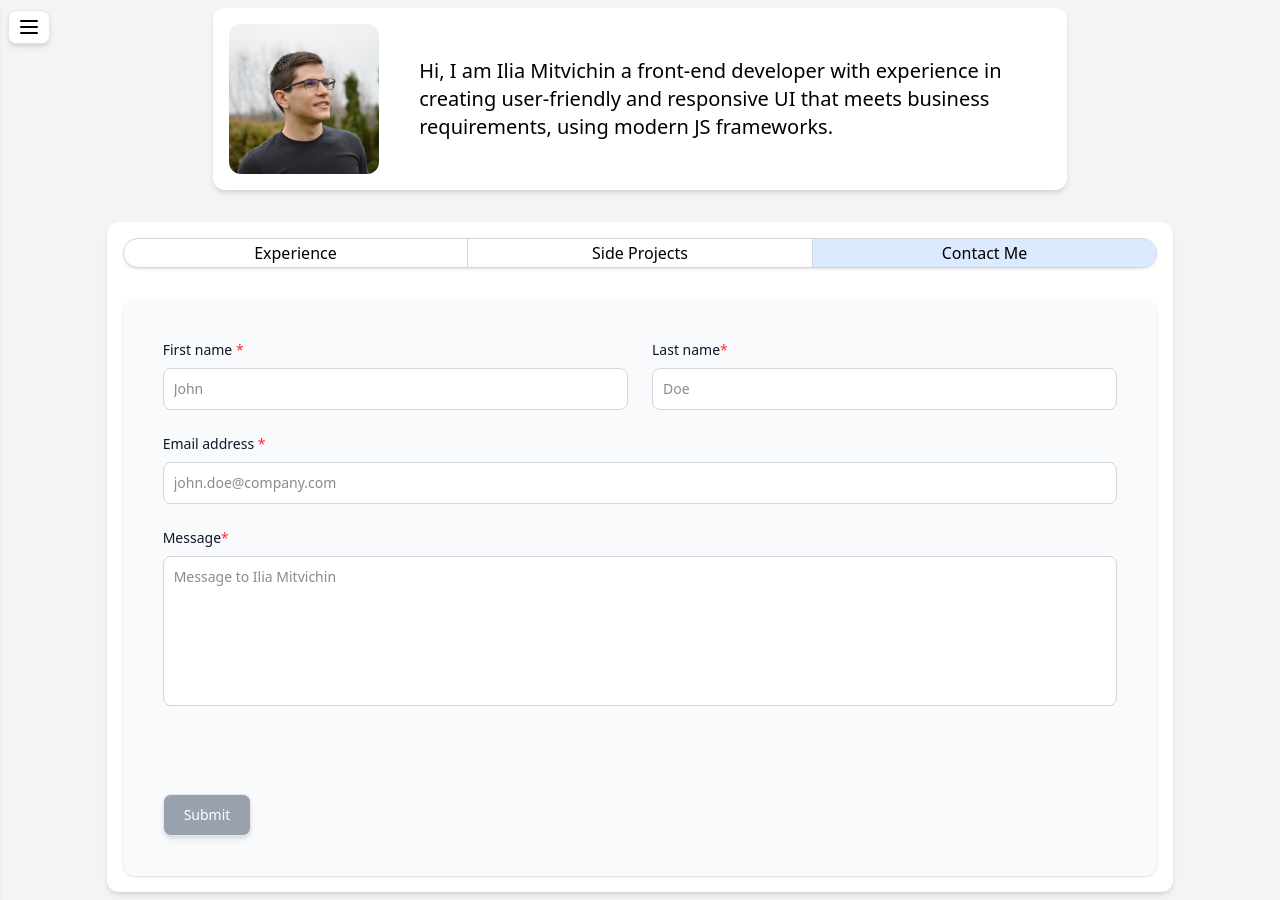
Test: Contact me › should show validation messages
Expected: the text "Contact Me" is shown, [942, 241, 1027, 265]
In the field with placeholder "John": [395, 389] box [163, 368, 628, 410], type "T"
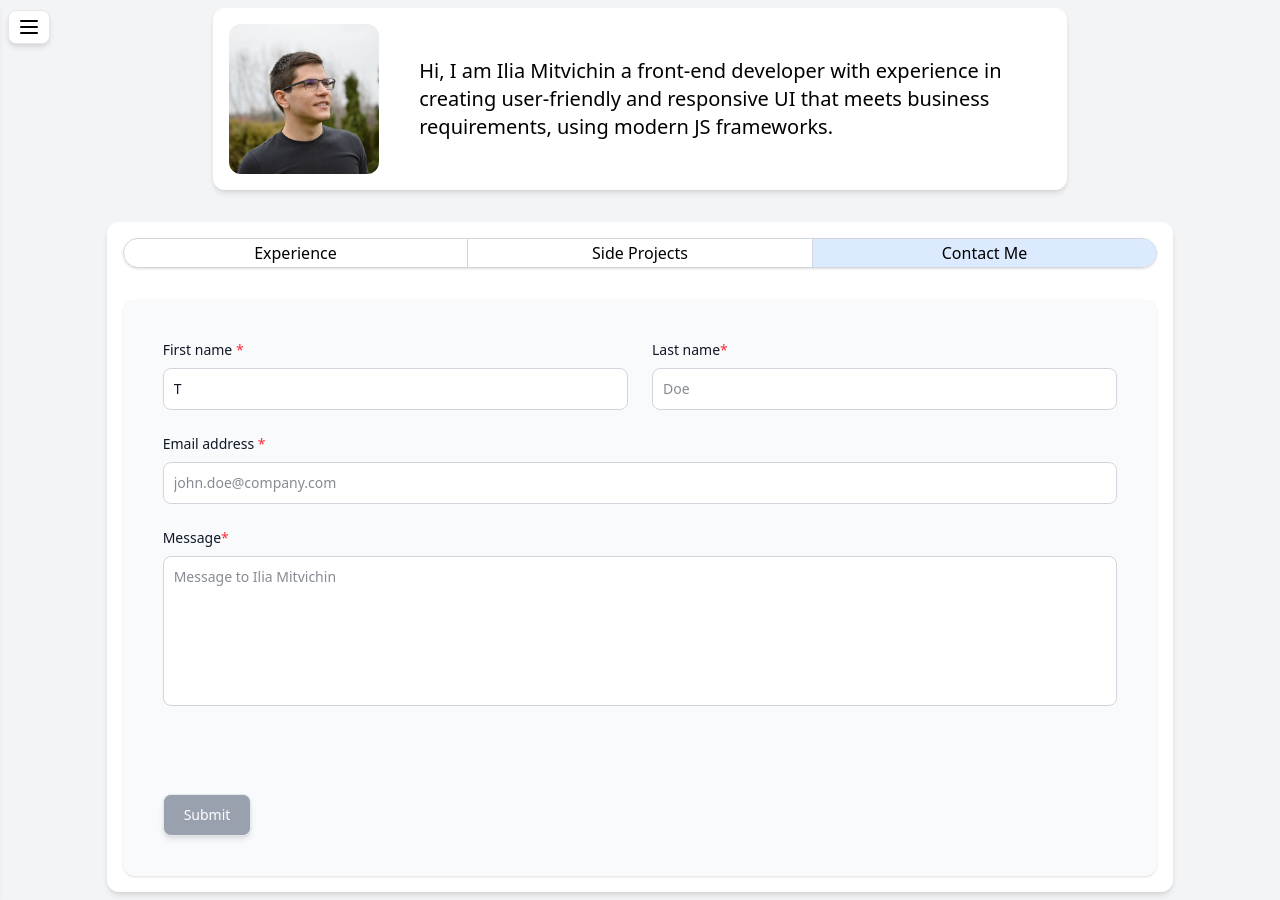
In the field with placeholder "Doe": [885, 389] box [652, 368, 1117, 410], type "T"
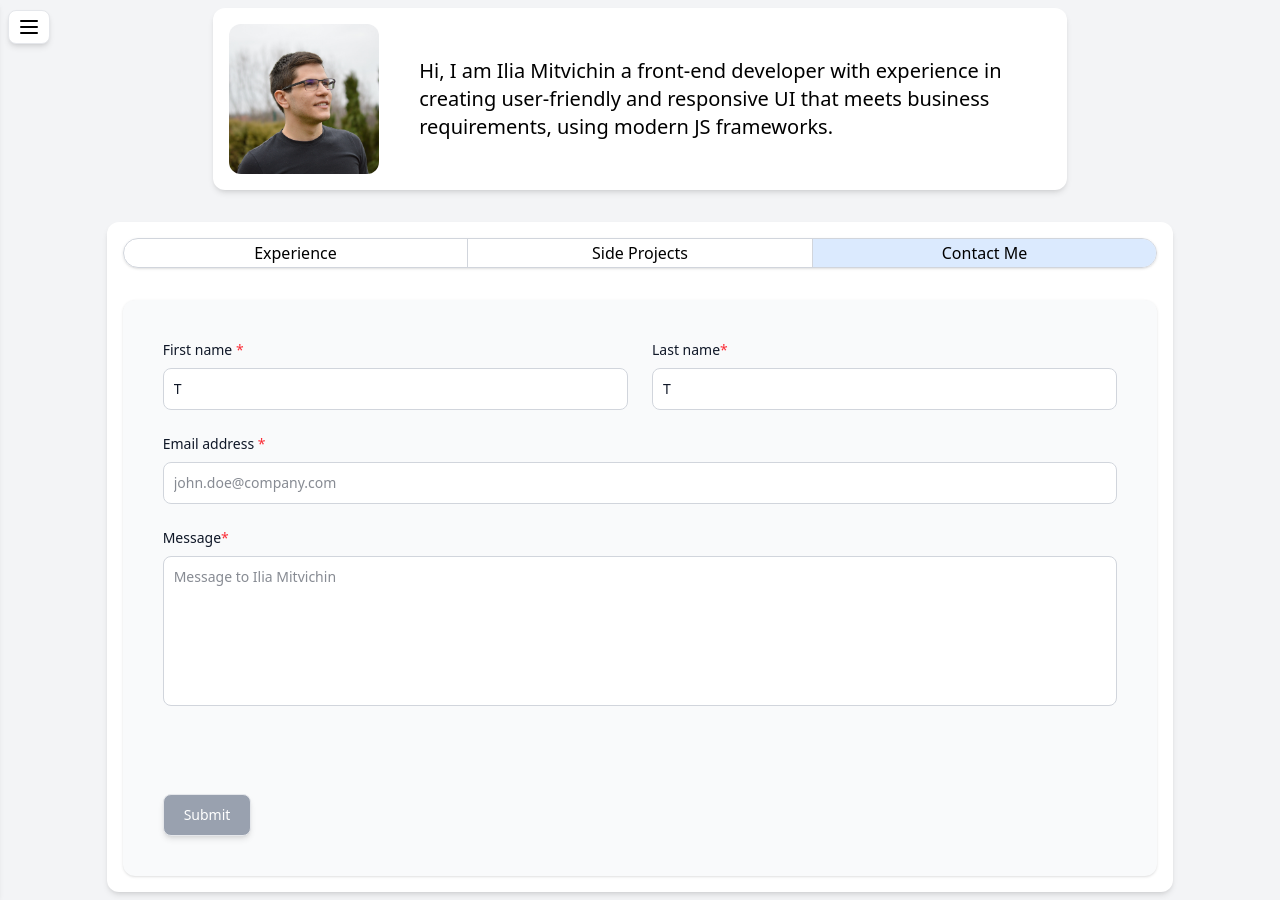
In the field with placeholder "john.doe@company.com": [640, 483] box [163, 462, 1117, 504], type "admin"
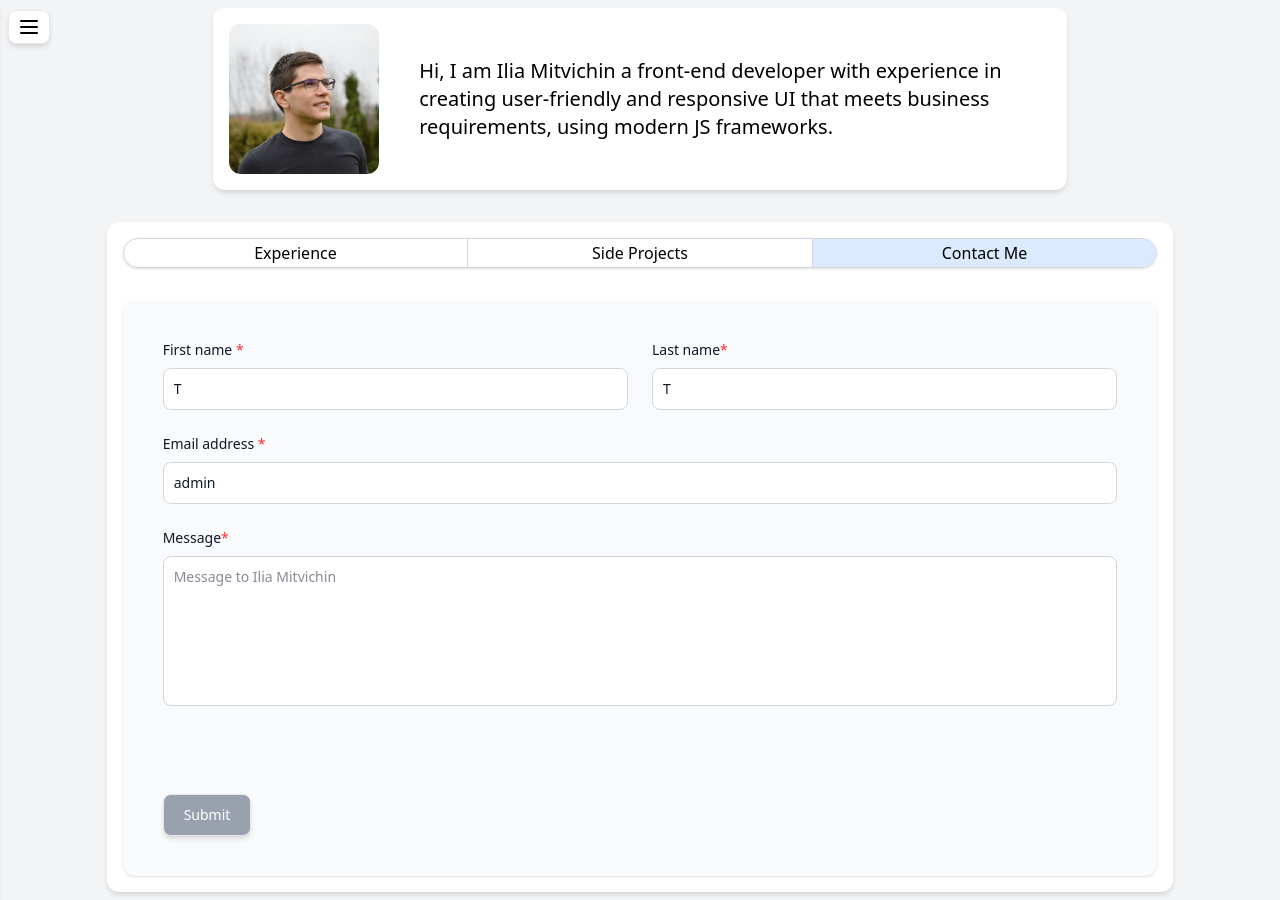
In the text box with placeholder "Message to Ilia Mitvichin": [640, 631] box [163, 556, 1117, 706], type "t"
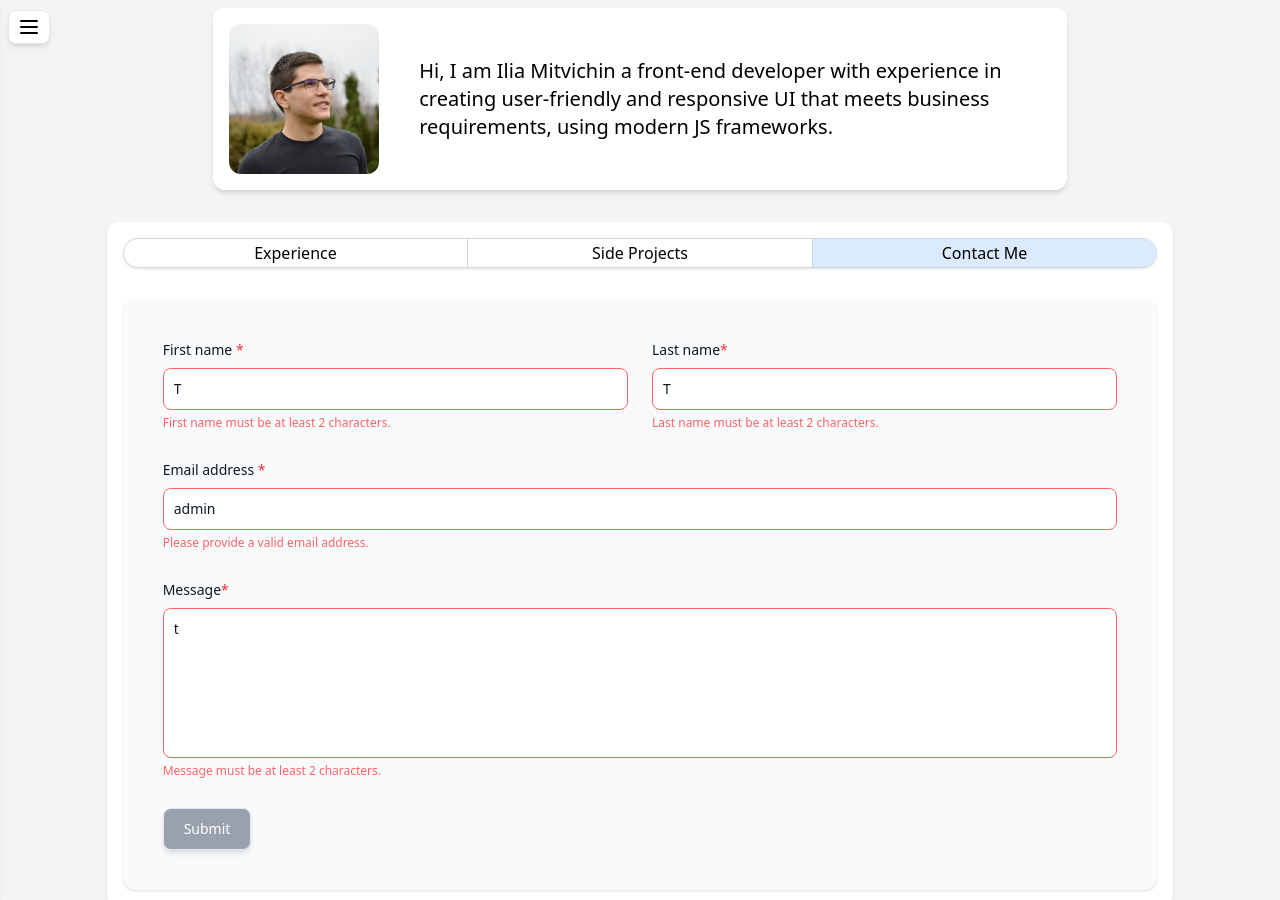
Now the text "First name must be at least 2 characters." is shown, box [163, 414, 391, 431]
Now the text "Last name must be at least 2 characters." is shown, box [652, 414, 879, 431]
Now the text "Please provide a valid email address." is shown, box [163, 534, 369, 551]
